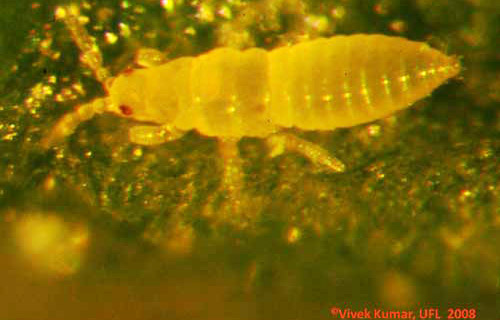Thrips: (57, 36, 473, 172)
